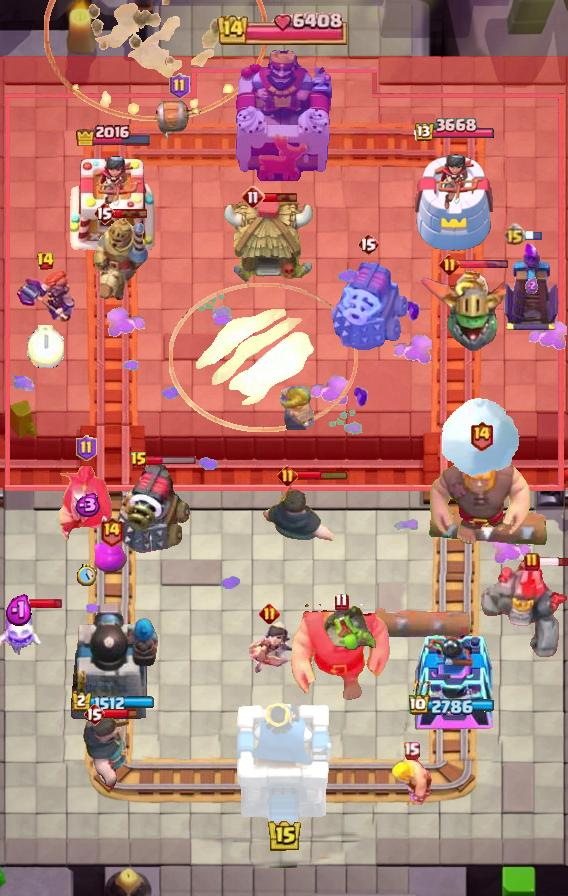archer: (389, 751, 433, 806)
balloon: (290, 604, 392, 702), (427, 456, 535, 548)
bar-level: (322, 603, 380, 651)
cannoneer-tower: (478, 558, 568, 660)
clock: (217, 11, 351, 45)
electro-spirit: (5, 594, 34, 627), (71, 493, 100, 517), (526, 277, 539, 294)
elixir: (28, 325, 65, 368), (76, 564, 95, 586)
emote: (12, 597, 63, 610), (295, 469, 348, 481), (457, 259, 509, 270), (146, 455, 198, 466), (103, 707, 138, 721), (263, 191, 299, 203), (112, 208, 147, 219), (538, 556, 568, 568), (525, 229, 544, 241)
goblin-giant: (278, 385, 314, 431)
golem: (326, 260, 410, 350), (109, 465, 191, 555)
guard: (44, 0, 268, 120)
ice-spirit-evolution-symbol: (501, 240, 561, 332)
ice-wizard: (170, 284, 359, 433)
king-tower: (232, 45, 336, 181), (235, 703, 333, 826)
knight: (154, 100, 204, 142)
miner: (95, 542, 127, 572)
minion: (426, 507, 550, 547), (370, 605, 472, 645)
mirror: (0, 602, 44, 656)
night-witch: (418, 269, 506, 355)
prince: (223, 195, 317, 285)
queen-tower: (67, 152, 161, 256), (410, 144, 496, 255), (412, 623, 494, 731)
ram-rider: (90, 217, 150, 303)
royal-hog: (260, 480, 338, 552), (83, 711, 133, 789)
selected: (412, 118, 494, 144), (409, 695, 497, 717), (75, 122, 153, 146), (72, 691, 156, 713)
skeleton-dragon: (244, 619, 294, 675)
tesla-evolution: (13, 269, 77, 325)
text: (470, 420, 495, 451), (99, 517, 124, 547), (241, 185, 265, 209), (169, 73, 190, 99), (75, 435, 96, 461), (503, 223, 526, 246), (93, 201, 115, 225), (357, 232, 379, 256), (83, 702, 105, 726), (439, 253, 460, 275), (277, 465, 298, 487), (259, 603, 280, 625), (36, 251, 56, 271), (130, 451, 148, 471), (403, 741, 421, 760), (524, 552, 540, 572), (335, 593, 350, 611)
tower-bar: (69, 599, 159, 731)
wall-breaker: (440, 396, 522, 478)
wall-breaker-evolution: (58, 466, 114, 546)
